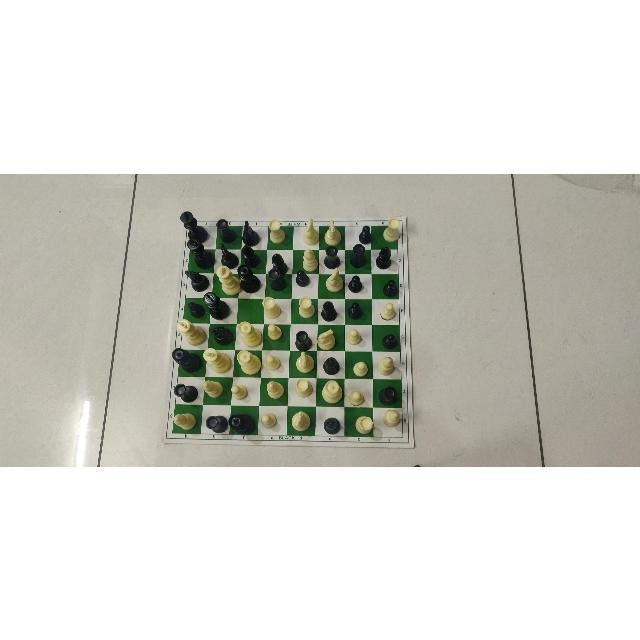black-bishop: (239, 244, 261, 267), (319, 298, 338, 321), (376, 245, 394, 269), (321, 354, 341, 375), (269, 252, 289, 273), (322, 415, 342, 435)
black-king: (179, 210, 208, 242), (186, 237, 213, 268), (204, 290, 230, 320)
black-knight: (216, 242, 240, 268), (239, 218, 262, 245), (185, 267, 209, 291), (210, 324, 234, 346)
black-pawn: (356, 223, 375, 245), (187, 300, 207, 318), (380, 331, 400, 349), (346, 300, 364, 320), (381, 278, 400, 296), (347, 275, 364, 293), (294, 270, 311, 286)
black-queen: (172, 346, 202, 371), (238, 261, 260, 292), (228, 412, 256, 435)
black-rook: (173, 379, 199, 402), (215, 218, 239, 242), (347, 242, 368, 267), (376, 384, 399, 406), (293, 329, 315, 351), (265, 269, 289, 289), (322, 244, 342, 268), (204, 413, 227, 433)
white-bishop: (173, 408, 199, 431), (200, 376, 225, 399), (375, 354, 397, 378), (380, 408, 402, 431), (264, 379, 287, 401), (299, 247, 319, 270)
white-king: (177, 318, 207, 346), (216, 263, 242, 294), (202, 346, 231, 373)
white-knight: (298, 217, 321, 244), (289, 408, 313, 433), (322, 219, 344, 245), (293, 350, 317, 373), (324, 266, 345, 292), (316, 328, 337, 350)
white-pawn: (260, 410, 282, 431), (377, 301, 397, 321), (230, 383, 250, 401), (265, 323, 285, 341), (351, 360, 370, 378), (264, 353, 282, 371), (348, 389, 366, 406), (346, 327, 364, 344)
white-queen: (237, 320, 263, 345), (236, 350, 262, 374), (320, 378, 344, 403)
white-rook: (379, 216, 403, 242), (266, 218, 288, 245), (259, 295, 283, 319), (296, 295, 316, 318), (292, 378, 312, 400), (354, 414, 373, 434)
